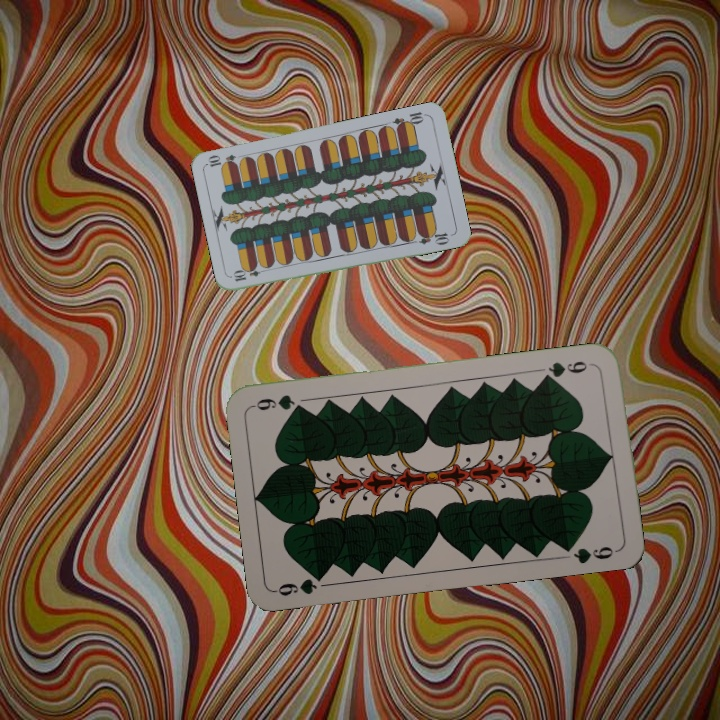E10: (389, 108, 429, 132), (229, 264, 270, 284)
G9: (272, 569, 329, 599), (539, 357, 590, 383)
